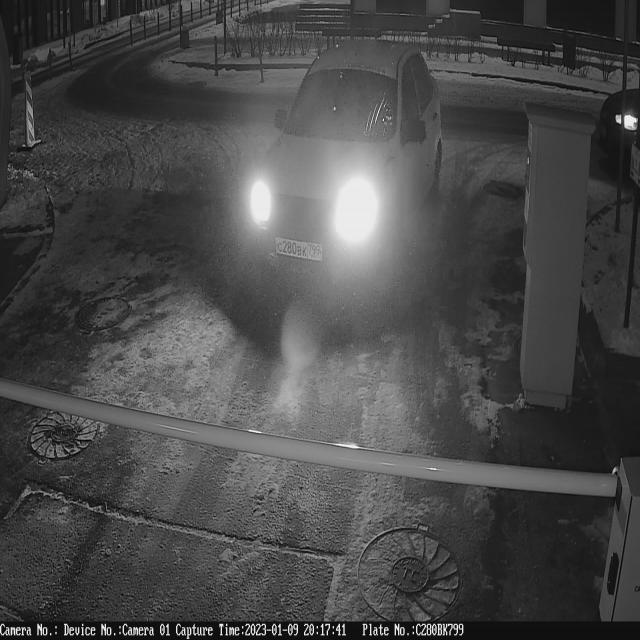car-plate-numbers: (276, 235, 324, 267)
